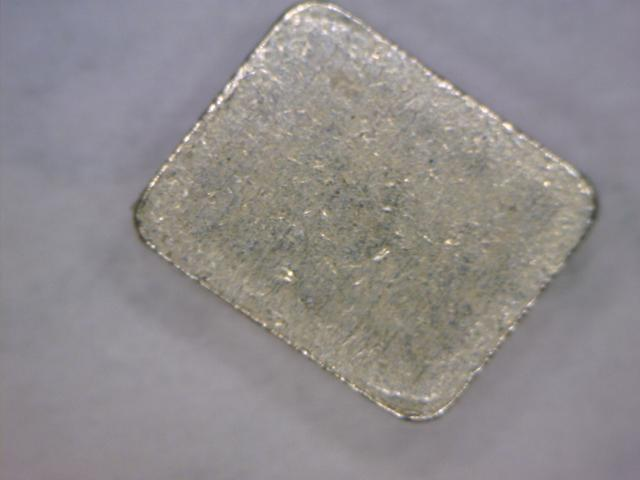ok: (124, 2, 607, 436)
